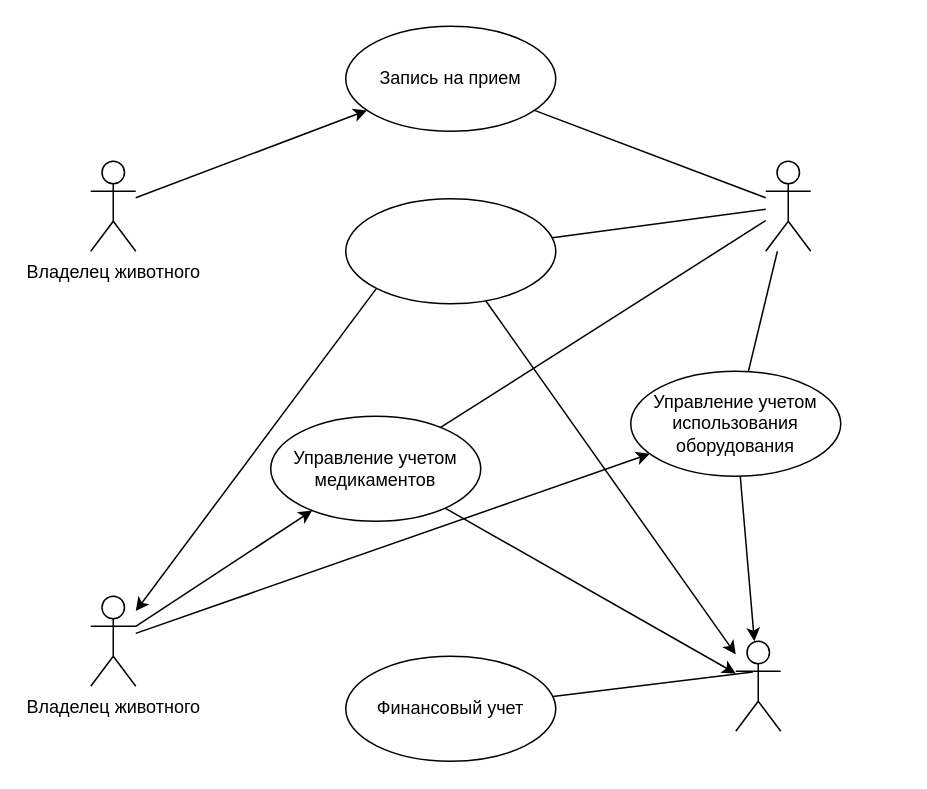
Some shapes in this 927 by 789 pixel diagram are drawn without their labels. Each missing label, with the centre of its shape:
Администратор ветклиники: the point at 787,205
Бухгалтер: the point at 757,685
Управление расписанием: the point at 450,250
